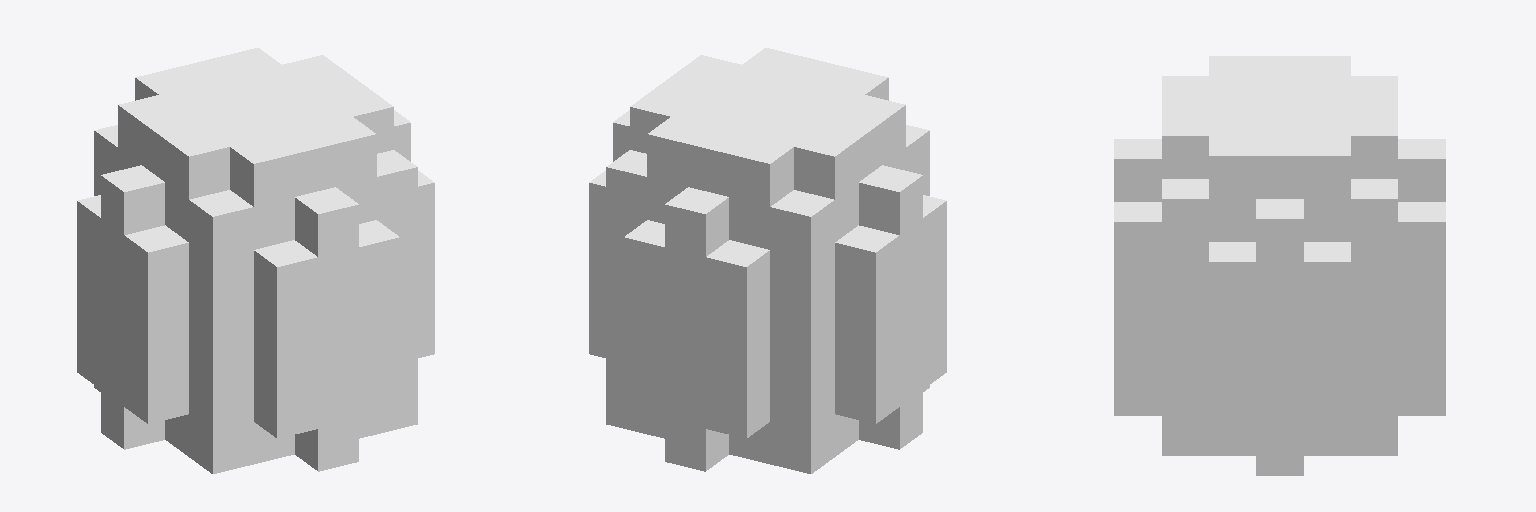
Rendered from SH_Items-5-Lantern_Glass.obj.
3 renders of one model, left to right at view 1: azimuth 30°, elevation 25°; view 2: azimuth 150°, elevation 25°; view 3: azimuth 270°, elevation 25°, orthographic.
Visible parts, largest first — view 1: Lantern_Glass; view 2: Lantern_Glass; view 3: Lantern_Glass.
Part boxes in pixels (x1,y1,x2,y2): Lantern_Glass: (77,48,434,473); Lantern_Glass: (589,48,946,473); Lantern_Glass: (1114,56,1445,475).
Size of the model in its own units: 0.7 by 0.7 by 0.7.